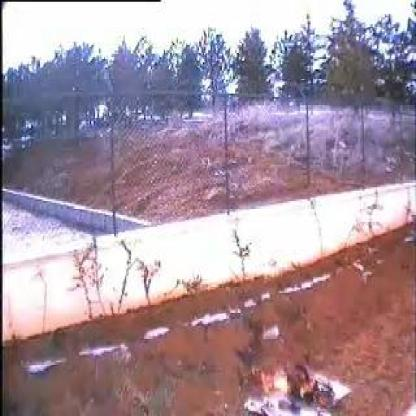-: (244, 394, 285, 414)
